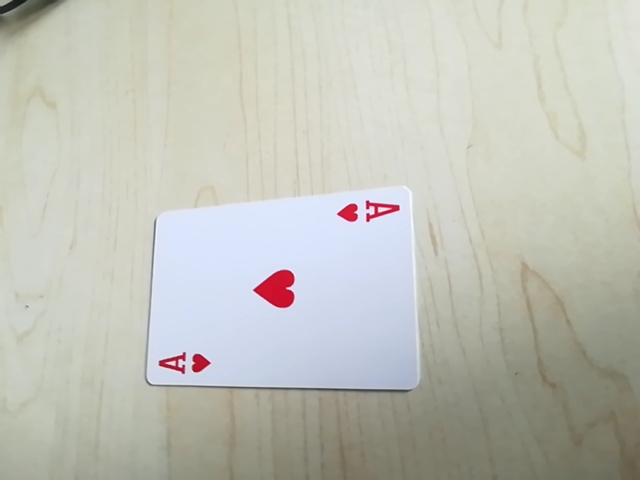hx a: (332, 191, 404, 230), (153, 346, 214, 382)
